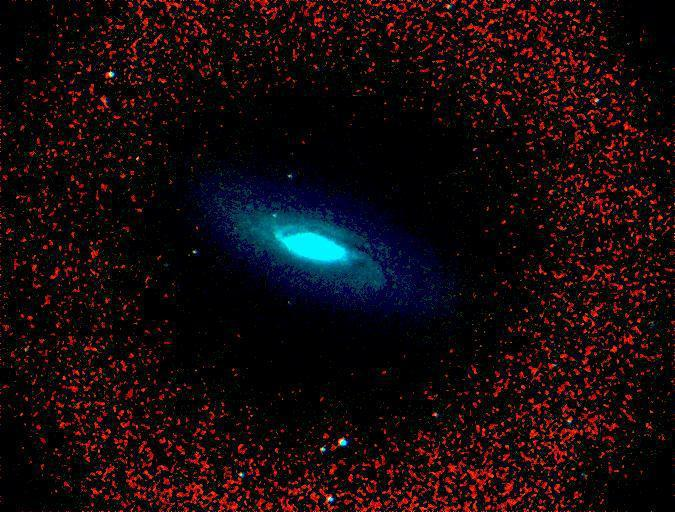star: (219, 214, 249, 244)
